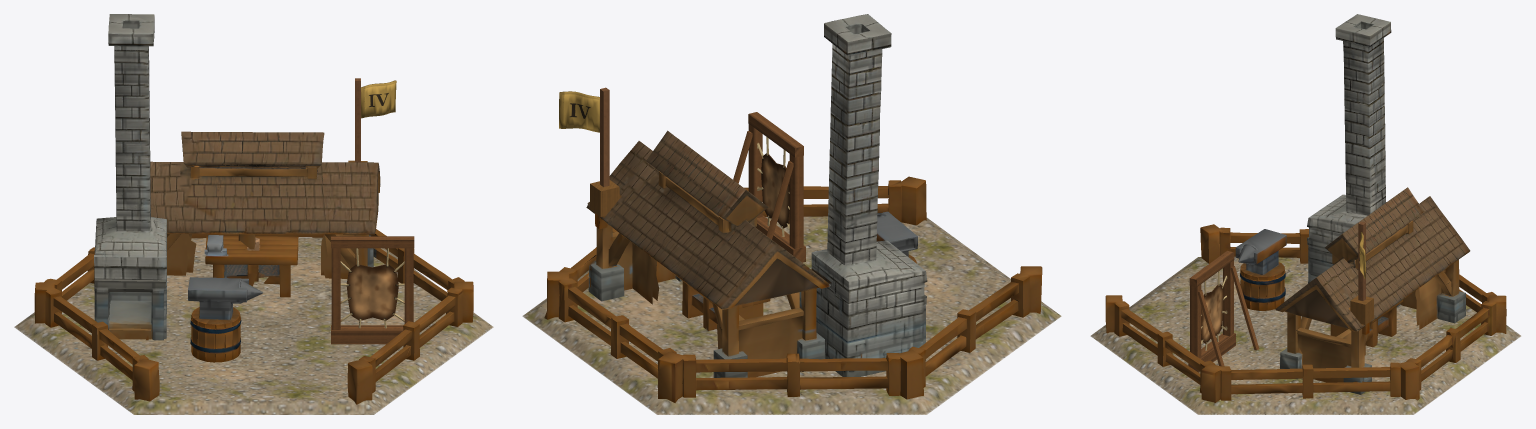
Rendered from workshop-4.glb.
3 views of the same model, side by side, from view 1: azimuth 30°, elevation 25°; view 2: azimuth 150°, elevation 25°; view 3: azimuth 270°, elevation 25° (orthographic). The views are drawn at different scales.
Parts seen in each view (by area): view 1: architecture, ground, tier-banner; view 2: architecture, ground, tier-banner; view 3: architecture, ground.
Boxes of the visible parts, bbox=[...] form: architecture: bbox=[34, 14, 473, 404]; ground: bbox=[14, 237, 493, 414]; tier-banner: bbox=[361, 80, 396, 118]; architecture: bbox=[544, 14, 1042, 402]; ground: bbox=[522, 216, 1061, 414]; tier-banner: bbox=[559, 91, 599, 132]; architecture: bbox=[1105, 14, 1506, 402]; ground: bbox=[1090, 256, 1521, 414].
Size of the model in its own units: 1.59 by 1.28 by 1.84.
3 materials, 3 textured.
